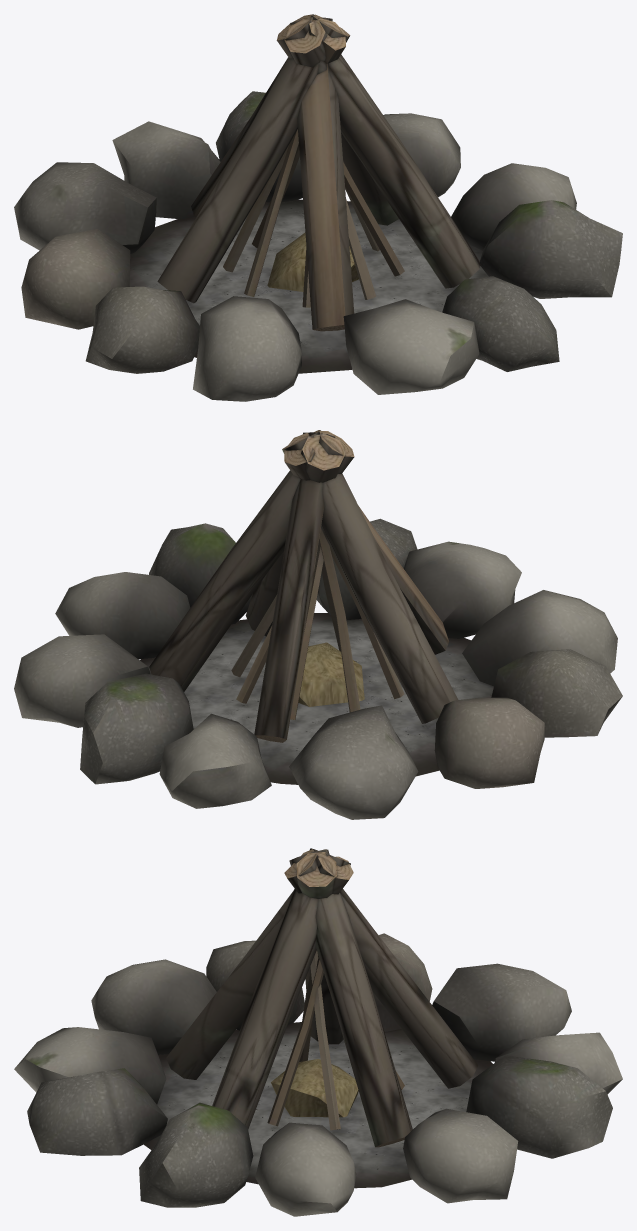
Rendered from fm_campfire_stage1_laid.glb.
3 views of the same model, one above another, from view 1: azimuth 30°, elevation 25°; view 2: azimuth 150°, elevation 25°; view 3: azimuth 270°, elevation 25° (orthographic). The views are drawn at different scales.
Parts seen in each view (by area): view 1: fm_campfire_stage1_laid; view 2: fm_campfire_stage1_laid; view 3: fm_campfire_stage1_laid.
Part boxes in pixels (bbox=[...]): fm_campfire_stage1_laid: bbox=[14, 14, 622, 401]; fm_campfire_stage1_laid: bbox=[14, 430, 622, 819]; fm_campfire_stage1_laid: bbox=[14, 848, 622, 1216].
Size of the model in its own units: 1.18 by 0.5867 by 1.25.
Materials: 1 (1 with a texture image).
